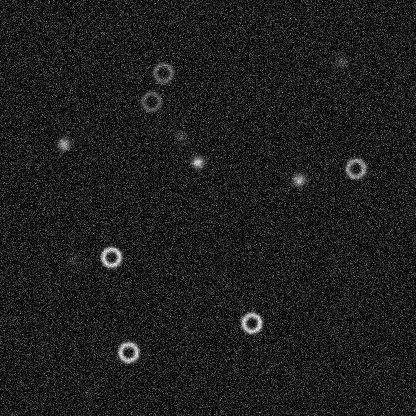Ring: (139, 89, 163, 113), (99, 245, 123, 269), (343, 156, 367, 180), (239, 310, 263, 334), (151, 60, 175, 84), (116, 340, 140, 364)
Spot: (55, 136, 71, 152), (333, 53, 349, 69), (65, 251, 81, 267), (189, 154, 205, 170), (290, 171, 306, 187), (172, 128, 188, 144)
